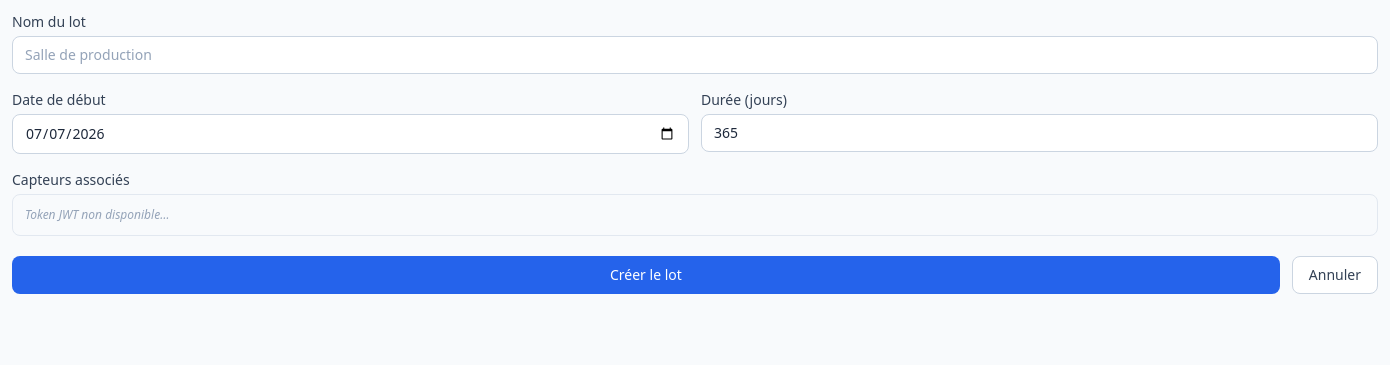
Test case: BatchForm › displays an error message when creation fails
This screenshot has width=1390, height=365.
Type "Salle 1" into the field with placeholder "Salle de production" at [695, 55], box top-left (12, 36), bottom-right (1378, 74)
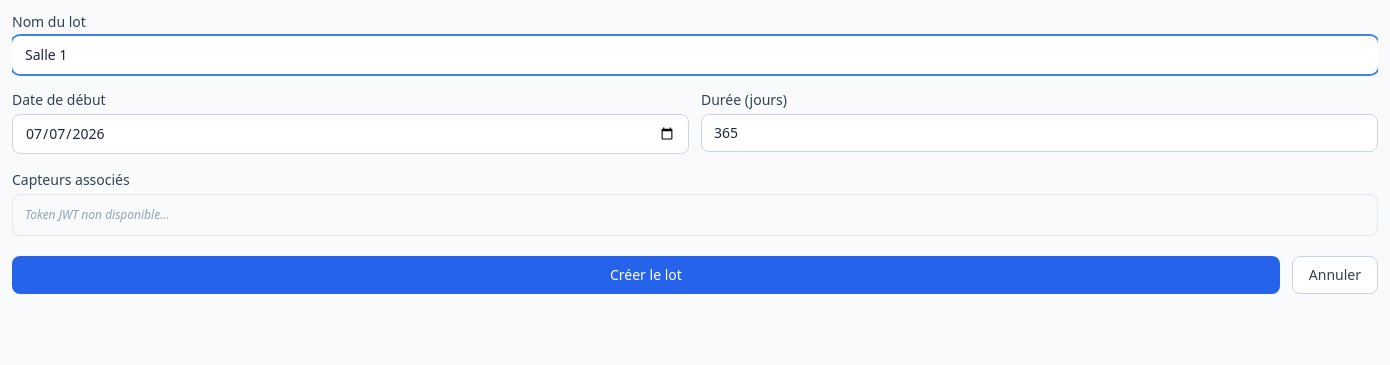
Click the button "Créer le lot" at [646, 275], box top-left (12, 256), bottom-right (1280, 294)
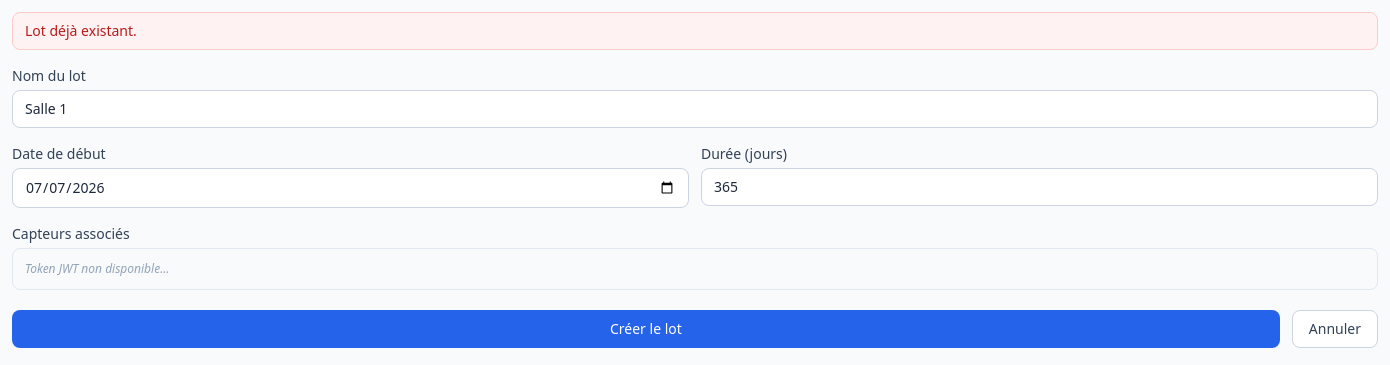
Expected: the text "Lot déjà existant." is shown, top-left (12, 12), bottom-right (1378, 50)
